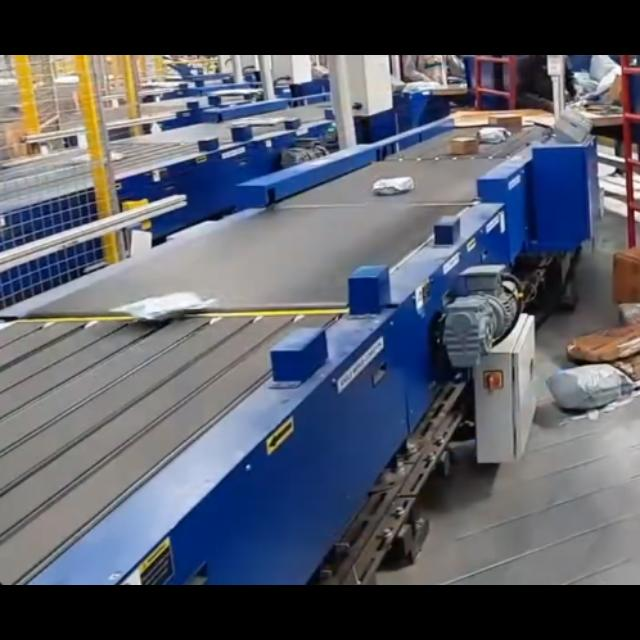box: (449, 138, 478, 156), (490, 114, 522, 130)
mailer: (122, 291, 206, 325), (376, 176, 412, 194), (479, 128, 505, 144)
